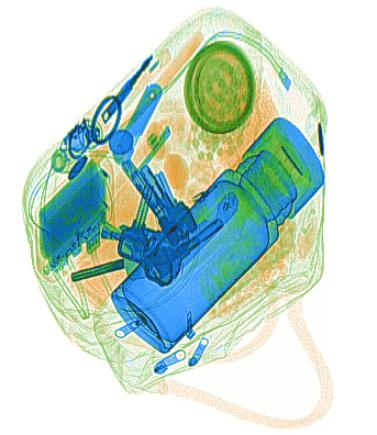knife: (169, 189, 240, 268), (113, 82, 163, 166)
